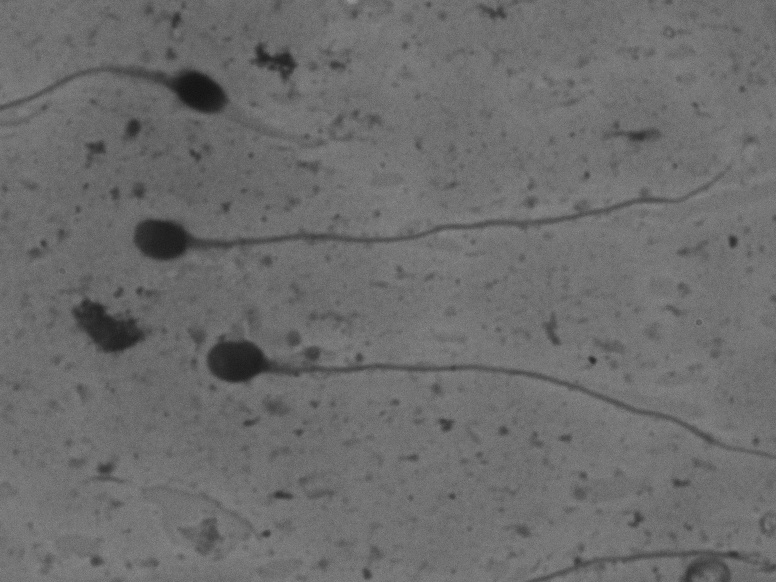Normal: (187, 321, 767, 474), (115, 138, 742, 271), (11, 41, 262, 136)
